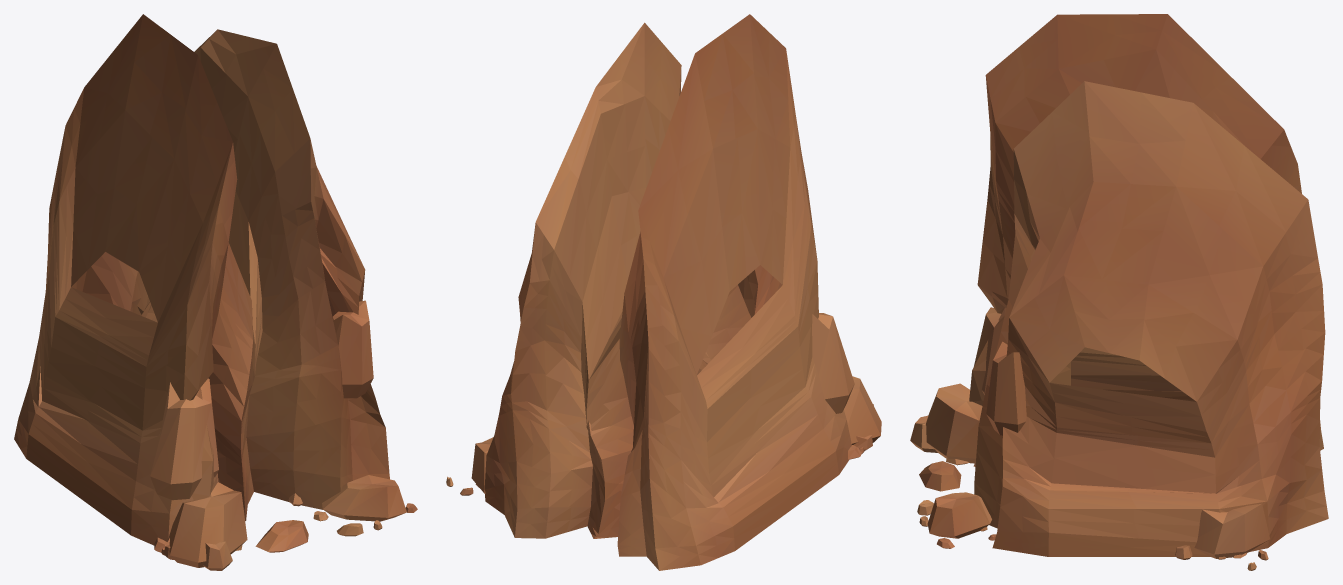
Rendered from fractured-spire.glb.
3 views of the same model, side by side, from view 1: azimuth 30°, elevation 25°; view 2: azimuth 150°, elevation 25°; view 3: azimuth 270°, elevation 25° (orthographic).
Visible parts, largest first — view 1: canyon-buttress; view 2: canyon-buttress; view 3: canyon-buttress.
Part boxes in pixels (left/top/right/bottom): canyon-buttress: left=14, top=14, right=417, bottom=570; canyon-buttress: left=446, top=14, right=881, bottom=570; canyon-buttress: left=910, top=14, right=1328, bottom=570.
Size of the model in its own units: 80 by 120 by 100.
